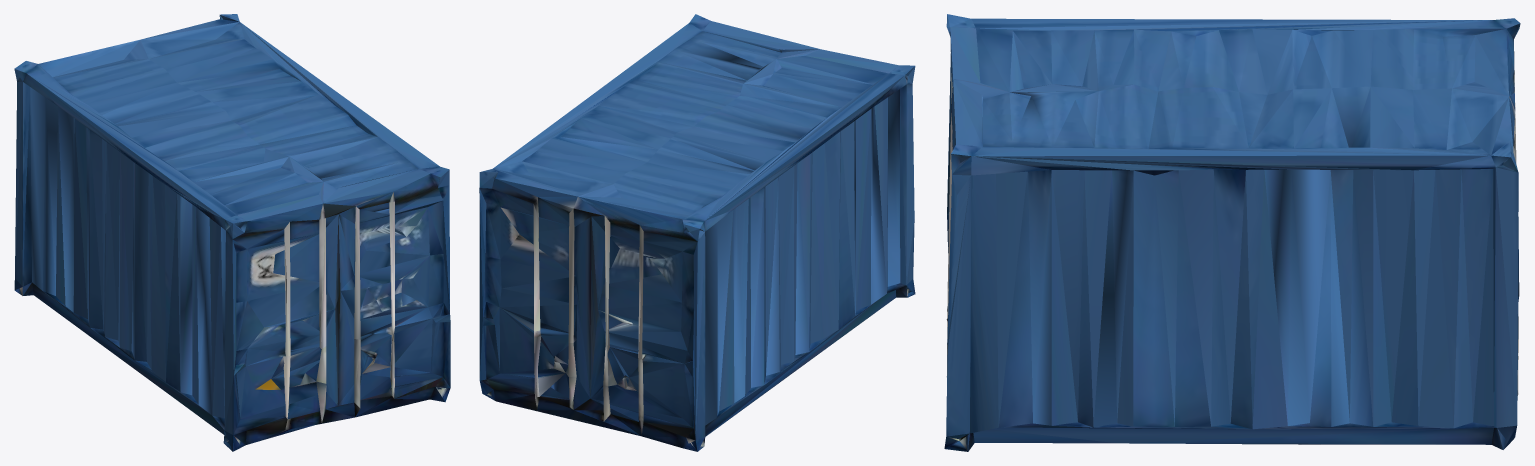
The model's file is container2.glb.
3 renders of one model, left to right at view 1: azimuth 30°, elevation 25°; view 2: azimuth 150°, elevation 25°; view 3: azimuth 270°, elevation 25°, orthographic. The views are drawn at different scales.
Visible parts, largest first — view 1: tripo_node_91fef0d0; view 2: tripo_node_91fef0d0; view 3: tripo_node_91fef0d0.
Part boxes in pixels (bbox=[...]): tripo_node_91fef0d0: bbox=[14, 14, 450, 451]; tripo_node_91fef0d0: bbox=[479, 14, 915, 451]; tripo_node_91fef0d0: bbox=[944, 14, 1520, 451].
Bounding box in the file's own units: 1 × 1 × 1.73.
Materials: 1 (1 with a texture image).
